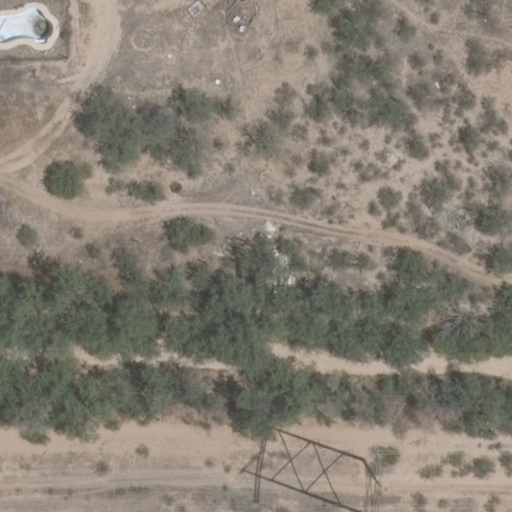DT: (349, 440, 396, 512)
